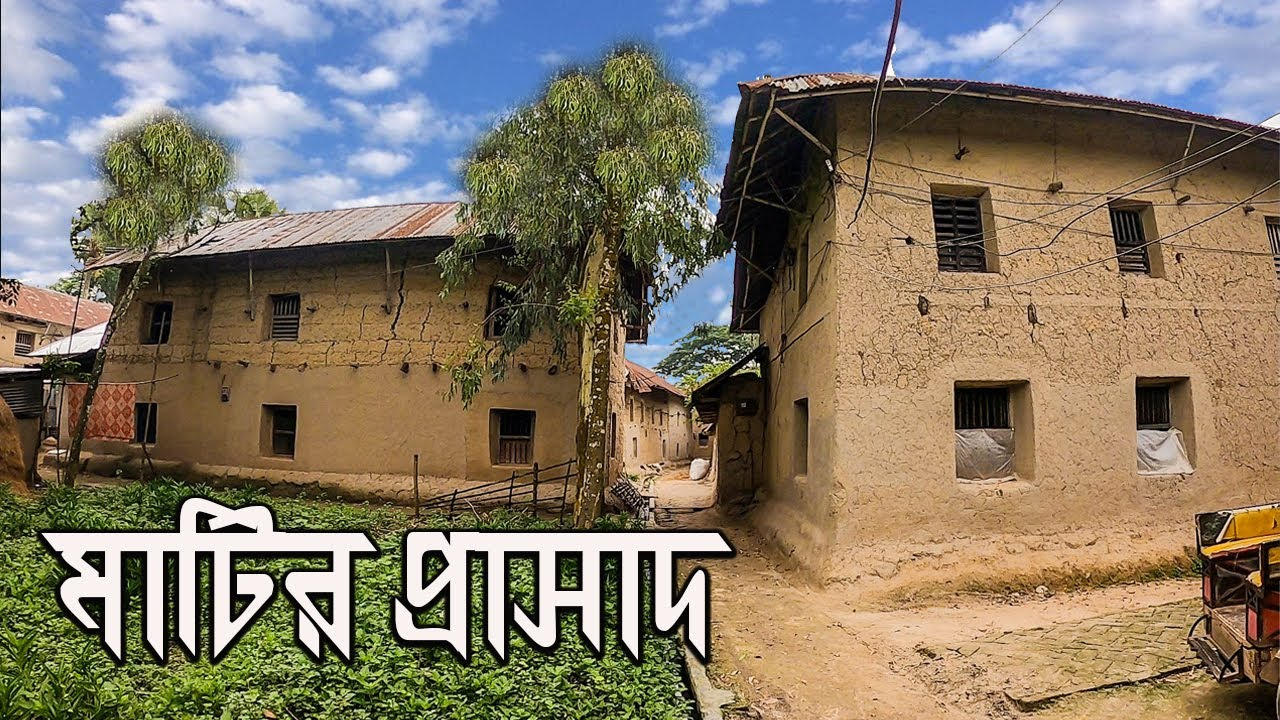Mud House: (704, 38, 1265, 578), (70, 189, 653, 493)
